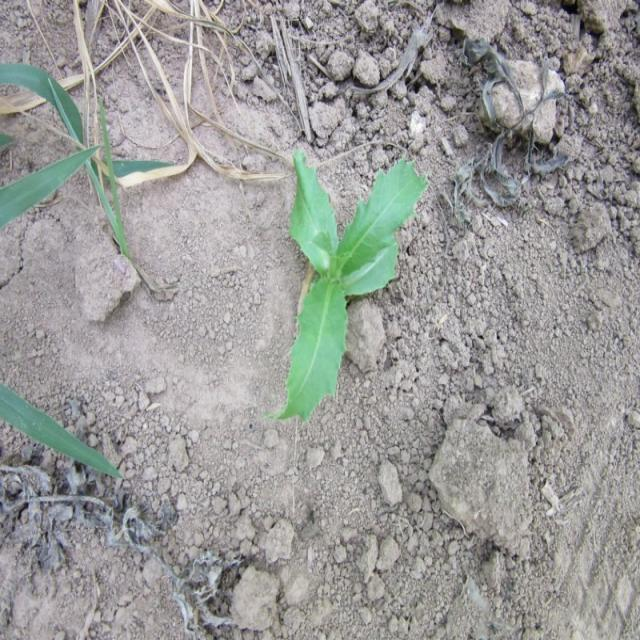field_thistle: (268, 144, 432, 449)
